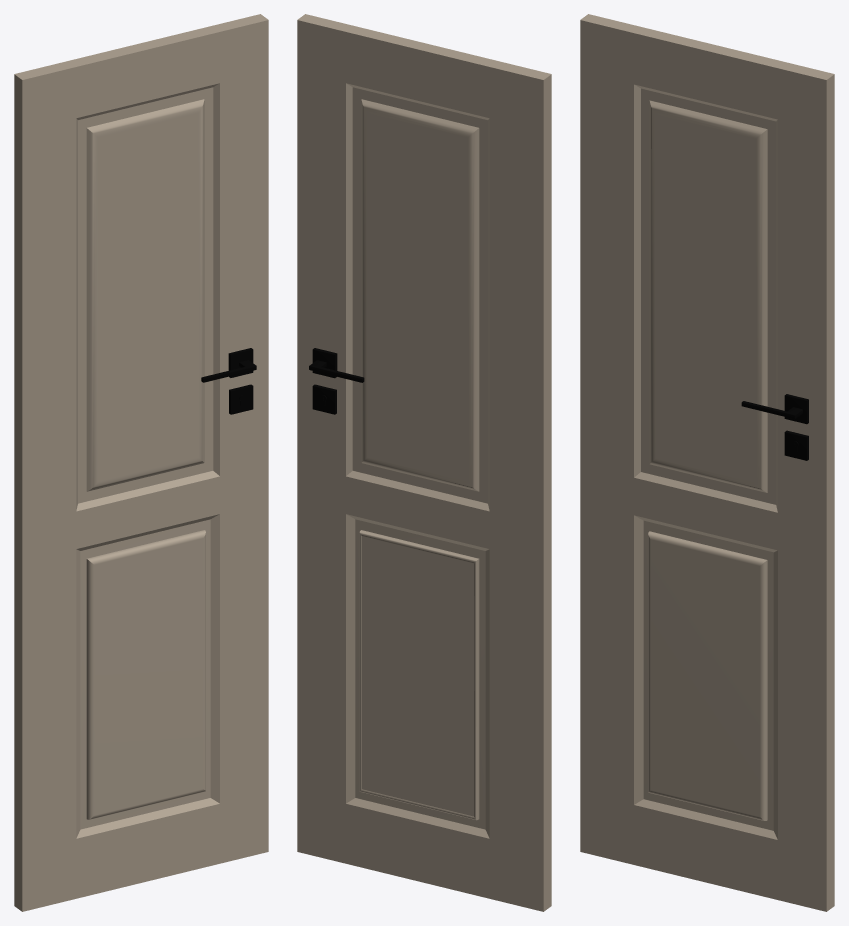
The model's file is RP_4_3b_door.glb.
The picture shows the model from 3 angles, left to right: view 1: azimuth 30°, elevation 25°; view 2: azimuth 150°, elevation 25°; view 3: azimuth 330°, elevation 25°; orthographic projection.
Parts seen in each view (by area): view 1: RP_4__3b_door_; view 2: RP_4__3b_door_; view 3: RP_4__3b_door_.
Part boxes in pixels (left/top/right/bottom): RP_4__3b_door_: left=14, top=14, right=268, bottom=911; RP_4__3b_door_: left=297, top=14, right=551, bottom=911; RP_4__3b_door_: left=580, top=14, right=834, bottom=911.
Size of the model in its own units: 0.5514 by 1.78 by 0.1089.
1 material, 1 textured.
